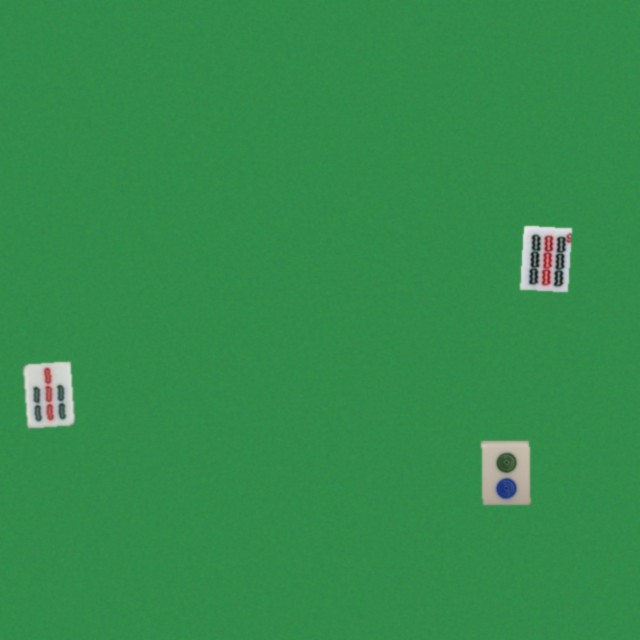tile: (481, 440, 529, 504), (22, 361, 70, 425), (520, 225, 568, 289)
